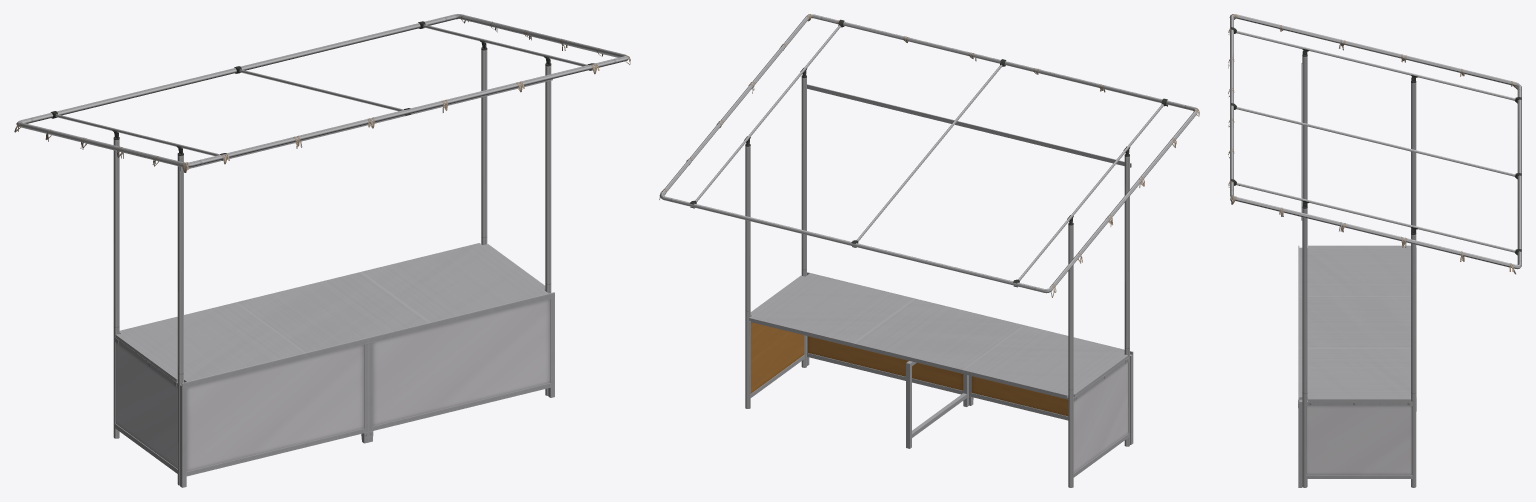
The model's file is jsf_4P_s03_c04_t01.fbx.
3 renders of one model, left to right at view 1: azimuth 30°, elevation 25°; view 2: azimuth 150°, elevation 25°; view 3: azimuth 270°, elevation 25°, orthographic. The views are drawn at different scales.
Visible parts, largest first — view 1: Base_s03_c04, Table_4P_s03_t01, Pillar4_s03, Rope_4P_s03; view 2: Table_4P_s03_t01, Pillar4_s03, Base_s03_c04, Support; view 3: Table_4P_s03_t01, Pillar4_s03, Base_s03_c04, Rope_4P_s03.
Boxes of the visible parts, bbox=[...] form: Base_s03_c04: bbox=[114, 292, 554, 487]; Table_4P_s03_t01: bbox=[115, 243, 548, 386]; Pillar4_s03: bbox=[16, 14, 628, 485]; Rope_4P_s03: bbox=[14, 14, 630, 172]; Table_4P_s03_t01: bbox=[749, 273, 1128, 400]; Pillar4_s03: bbox=[659, 14, 1198, 487]; Base_s03_c04: bbox=[750, 272, 1133, 477]; Support: bbox=[906, 361, 968, 448]; Table_4P_s03_t01: bbox=[1299, 245, 1416, 405]; Pillar4_s03: bbox=[1230, 14, 1521, 487]; Base_s03_c04: bbox=[1298, 245, 1412, 487]; Rope_4P_s03: bbox=[1228, 14, 1517, 274].
Bounding box in the file's own units: 316 × 243 × 211.
